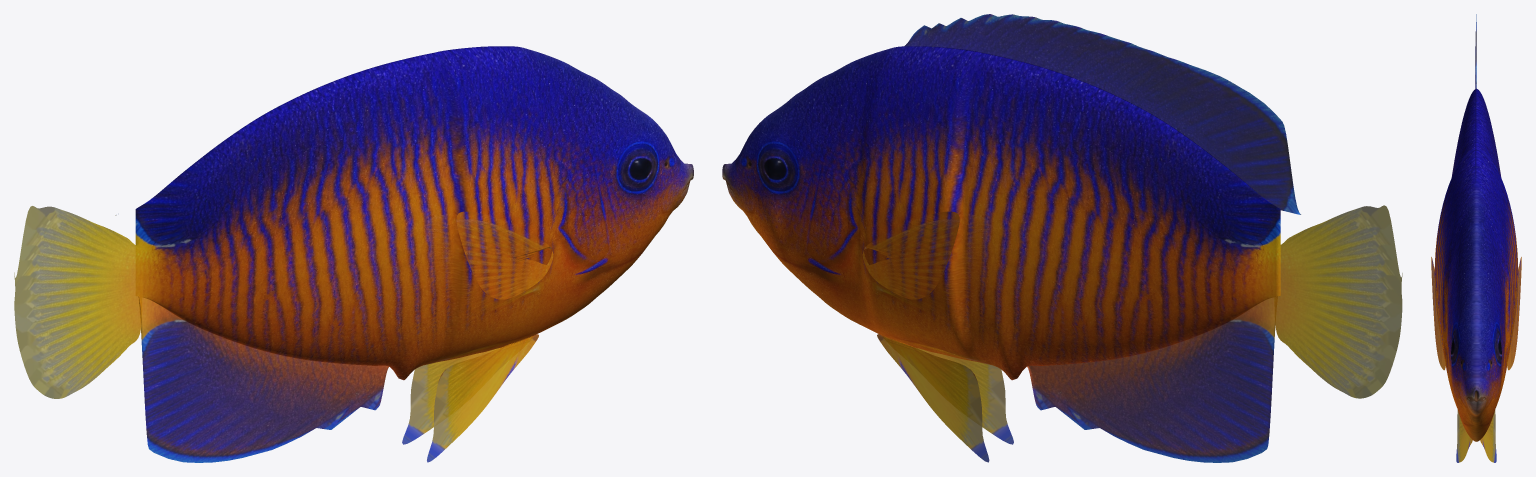
File: bispinosa-DgQSBp4Y.glb
The picture shows the model from 3 angles, left to right: view 1: azimuth 30°, elevation 25°; view 2: azimuth 150°, elevation 25°; view 3: azimuth 270°, elevation 25°; orthographic projection. The views are drawn at different scales.
Parts seen in each view (by area): view 1: bispinosa__body, bispinosa__fin_2, bispinosa__fin_0, bispinosa__pectoral_1, bispinosa__gill_1, bispinosa__pelvic_1, bispinosa__pelvic_-1, bispinosa__eye_1; view 2: bispinosa__body, bispinosa__fin_2, bispinosa__fin_1, bispinosa__fin_0, bispinosa__pectoral_-1, bispinosa__gill_-1, bispinosa__pelvic_-1, bispinosa__pelvic_1, bispinosa__eye_-1; view 3: bispinosa__body, bispinosa__pectoral_1, bispinosa__pectoral_-1, bispinosa__pelvic_1, bispinosa__pelvic_-1, bispinosa__gill_1, bispinosa__gill_-1, bispinosa__fin_1, bispinosa__eye_1, bispinosa__eye_-1.
Part boxes in pixels (x1,y1,x2,y2): bispinosa__body: (135, 46, 693, 380); bispinosa__fin_2: (138, 296, 388, 462); bispinosa__fin_0: (14, 206, 142, 398); bispinosa__pectoral_1: (456, 211, 553, 299); bispinosa__gill_1: (555, 135, 610, 284); bispinosa__pelvic_1: (427, 334, 538, 462); bispinosa__pelvic_-1: (402, 348, 499, 444); bispinosa__eye_1: (624, 151, 654, 187); bispinosa__body: (722, 46, 1280, 380); bispinosa__fin_2: (1027, 296, 1277, 462); bispinosa__fin_1: (904, 14, 1301, 214); bispinosa__fin_0: (1274, 205, 1402, 398); bispinosa__pectoral_-1: (862, 211, 959, 299); bispinosa__gill_-1: (805, 135, 860, 284); bispinosa__pelvic_-1: (877, 334, 989, 462); bispinosa__pelvic_1: (916, 348, 1013, 444); bispinosa__eye_-1: (761, 151, 792, 187); bispinosa__body: (1434, 88, 1518, 441); bispinosa__pectoral_1: (1431, 257, 1446, 370); bispinosa__pectoral_-1: (1506, 257, 1521, 370); bispinosa__pelvic_1: (1456, 410, 1472, 462); bispinosa__pelvic_-1: (1480, 410, 1496, 462); bispinosa__gill_1: (1448, 275, 1454, 391); bispinosa__gill_-1: (1498, 275, 1504, 391); bispinosa__fin_1: (1475, 14, 1476, 183); bispinosa__eye_1: (1451, 330, 1456, 360); bispinosa__eye_-1: (1496, 330, 1501, 360).
Size of the model in its own units: 1.23 by 0.7705 by 0.1721.
Materials: 5 (5 with a texture image).
